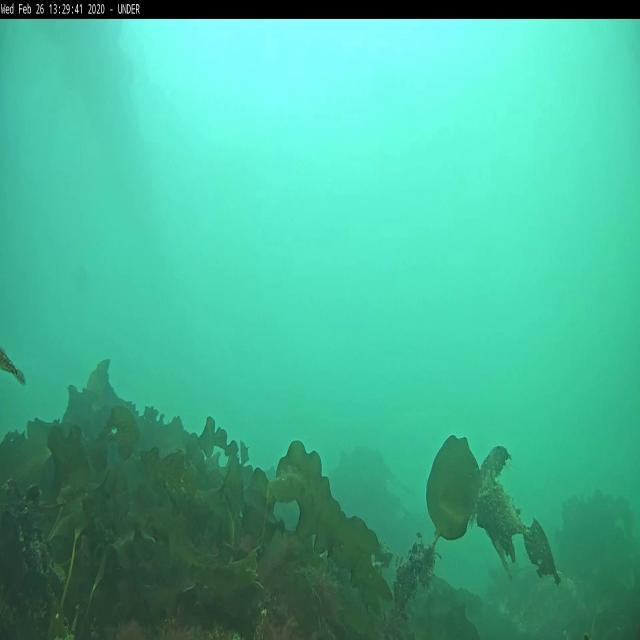fish: (1, 344, 27, 383)
